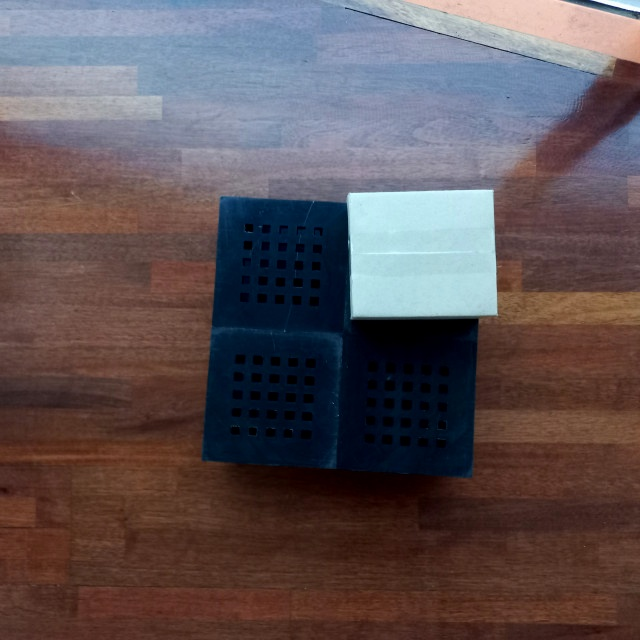box: (344, 186, 499, 323)
pallet: (195, 189, 501, 486)
